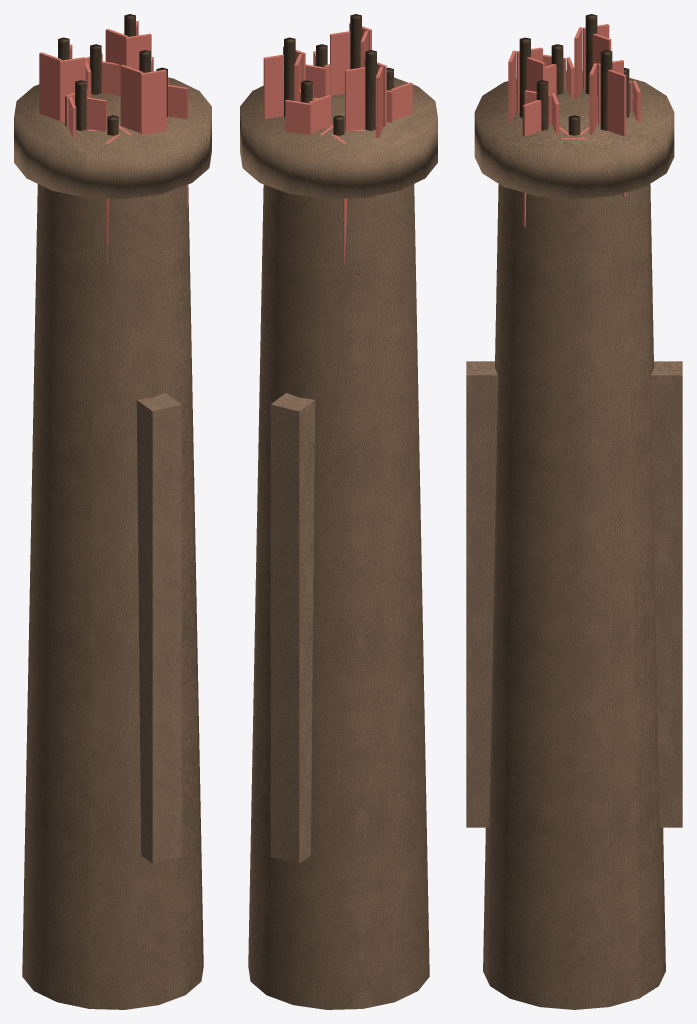
The model's file is quiver.glb.
The picture shows the model from 3 angles, left to right: view 1: azimuth 30°, elevation 25°; view 2: azimuth 150°, elevation 25°; view 3: azimuth 270°, elevation 25°; orthographic projection.
Visible parts, largest first — view 1: quiver; view 2: quiver; view 3: quiver.
Part boxes in pixels (left/top/right/bottom): quiver: left=14, top=14, right=211, bottom=1009; quiver: left=240, top=14, right=437, bottom=1009; quiver: left=466, top=14, right=682, bottom=1009.
Size of the model in its own units: 0.12 by 0.62 by 0.13.
4 materials, 3 textured.
